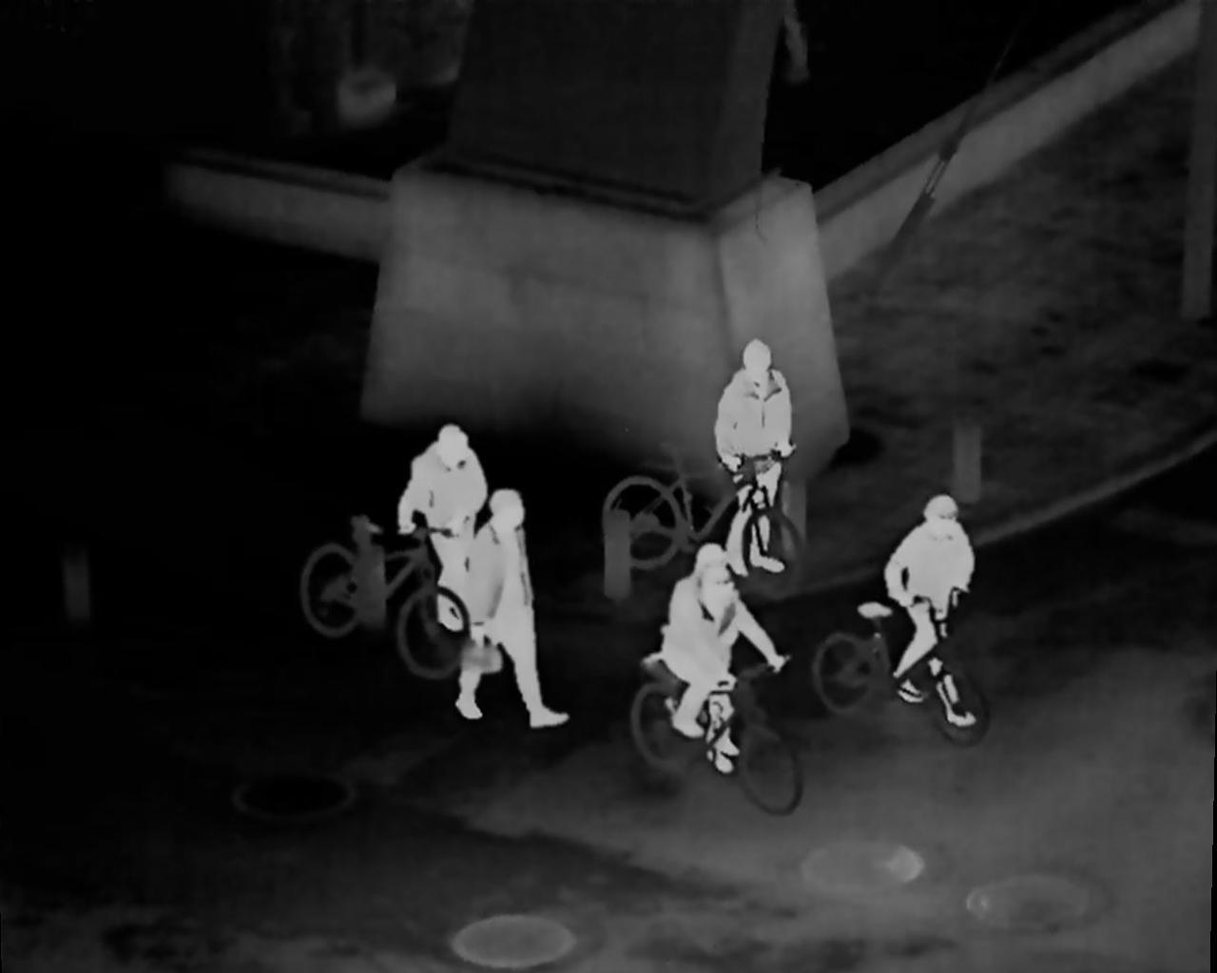person: (654, 544, 778, 773), (450, 490, 562, 730), (395, 425, 483, 637), (890, 497, 969, 724), (717, 340, 792, 573)
